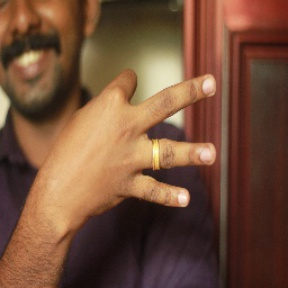K: (47, 68, 221, 217)
